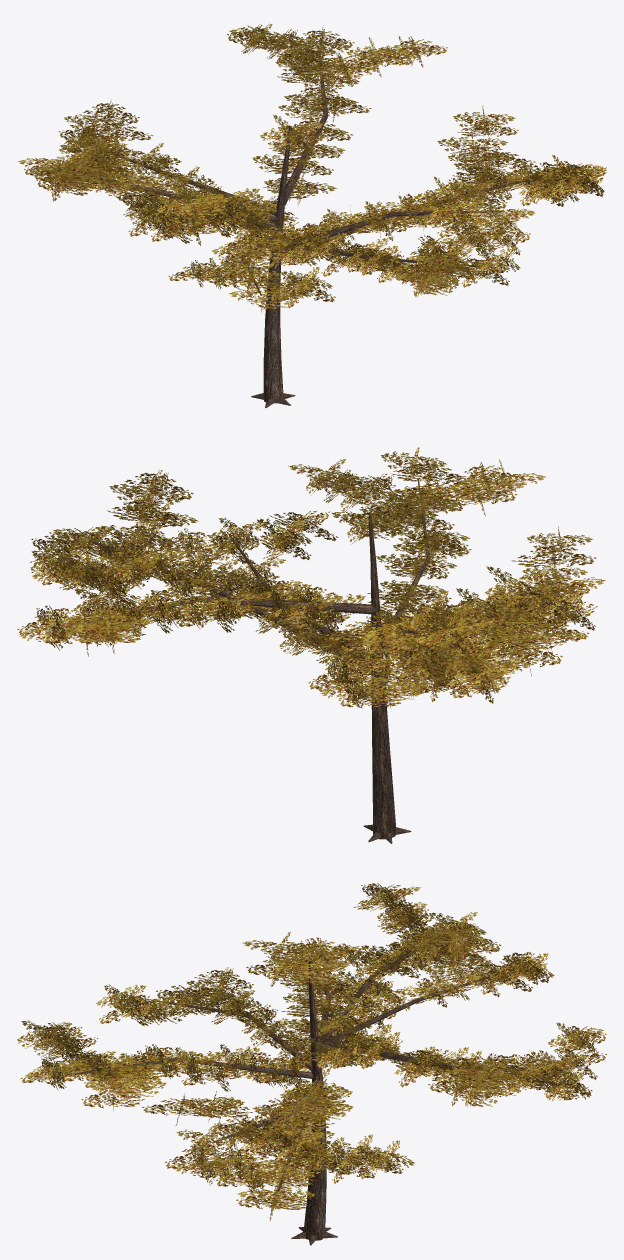
The model's file is tree_3d_06_yellow_lod1.glb.
The picture shows the model from 3 angles, top to bottom: view 1: azimuth 30°, elevation 25°; view 2: azimuth 150°, elevation 25°; view 3: azimuth 270°, elevation 25°; orthographic projection. The views are drawn at different scales.
Parts seen in each view (by area): view 1: foliage_cards, wood_geometry; view 2: foliage_cards, wood_geometry; view 3: foliage_cards, wood_geometry.
Part boxes in pixels (<box>): foliage_cards: <box>17,23,606,312</box>; wood_geometry: <box>56,46,556,407</box>; foliage_cards: <box>17,447,605,716</box>; wood_geometry: <box>59,478,576,843</box>; foliage_cards: <box>17,883,607,1220</box>; wood_geometry: <box>65,928,559,1245</box>.
Bounding box in the file's own units: 14.66 × 7.46 × 14.
2 materials, 2 textured.
